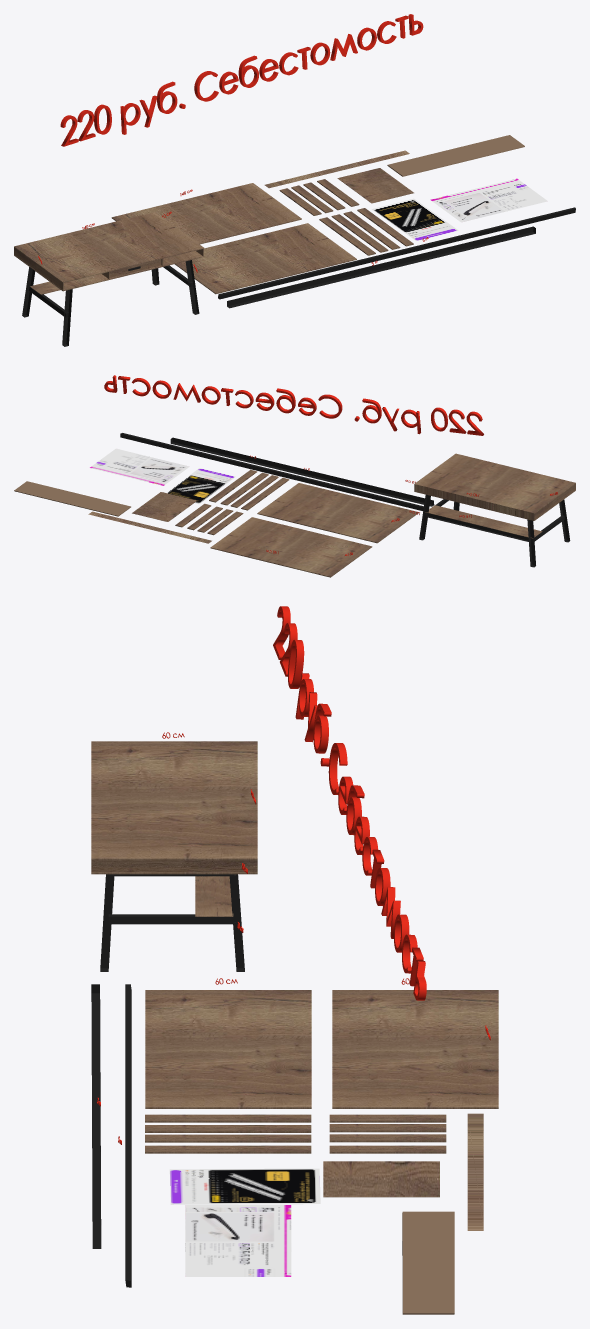
Rendered from table_02.glb.
3 renders of one model, top to bottom at view 1: azimuth 30°, elevation 25°; view 2: azimuth 150°, elevation 25°; view 3: azimuth 270°, elevation 25°, orthographic. The views are drawn at different scales.
Parts seen in each view (by area): view 1: Plane.009, Plane.017, Plane.016, Text.010, Plane.035, Plane.029, Plane.028, Plane.027, Plane.034, Plane.026, Plane, Plane.022 (+4 smaller); view 2: Plane.009, Plane.016, Plane.017, Text.010, Plane.035, Plane.029, Plane.028, Plane.027, Plane.034, Plane.026, Plane.008, Plane.022 (+8 smaller); view 3: Plane.009, Plane.017, Plane.016, Text.010, Plane.035, Plane.027, Plane.034, Plane.026, Plane.029, Plane.011, Plane.028, Plane.022 (+11 smaller).
Boxes of the visible parts, bbox=[...] form: Plane.009: bbox=[14, 212, 204, 282]; Plane.017: bbox=[175, 223, 356, 294]; Plane.016: bbox=[111, 183, 301, 244]; Text.010: bbox=[60, 14, 423, 146]; Plane.035: bbox=[430, 178, 547, 222]; Plane.029: bbox=[227, 226, 535, 308]; Plane.028: bbox=[218, 207, 575, 299]; Plane.027: bbox=[387, 135, 524, 176]; Plane.034: bbox=[371, 198, 458, 240]; Plane.026: bbox=[337, 168, 413, 203]; Plane: bbox=[14, 251, 204, 291]; Plane.022: bbox=[264, 150, 409, 188]; Plane.009: bbox=[414, 453, 575, 519]; Plane.016: bbox=[210, 517, 372, 577]; Plane.017: bbox=[257, 483, 418, 543]; Text.010: bbox=[104, 375, 483, 435]; Plane.035: bbox=[90, 448, 189, 485]; Plane.029: bbox=[170, 437, 434, 506]; Plane.028: bbox=[120, 433, 423, 510]; Plane.027: bbox=[14, 481, 130, 516]; Plane.034: bbox=[166, 468, 235, 504]; Plane.026: bbox=[132, 492, 196, 521]; Plane.008: bbox=[425, 505, 542, 538]; Plane.022: bbox=[88, 511, 211, 543]; Plane.009: bbox=[91, 741, 257, 860]; Plane.017: bbox=[145, 990, 311, 1108]; Plane.016: bbox=[332, 990, 498, 1108]; Text.010: bbox=[273, 606, 426, 1000]; Plane.035: bbox=[185, 1205, 291, 1276]; Plane.027: bbox=[402, 1211, 454, 1314]; Plane.034: bbox=[169, 1168, 320, 1204]; Plane.026: bbox=[323, 1161, 439, 1197]; Plane.029: bbox=[91, 984, 101, 1248]; Plane.011: bbox=[91, 860, 257, 872]; Plane.028: bbox=[125, 984, 131, 1287]; Plane.022: bbox=[467, 1113, 483, 1230].
Size of the model in its own units: 5.24 by 1.6 by 1.96.
Materials: 5 (3 with a texture image).
